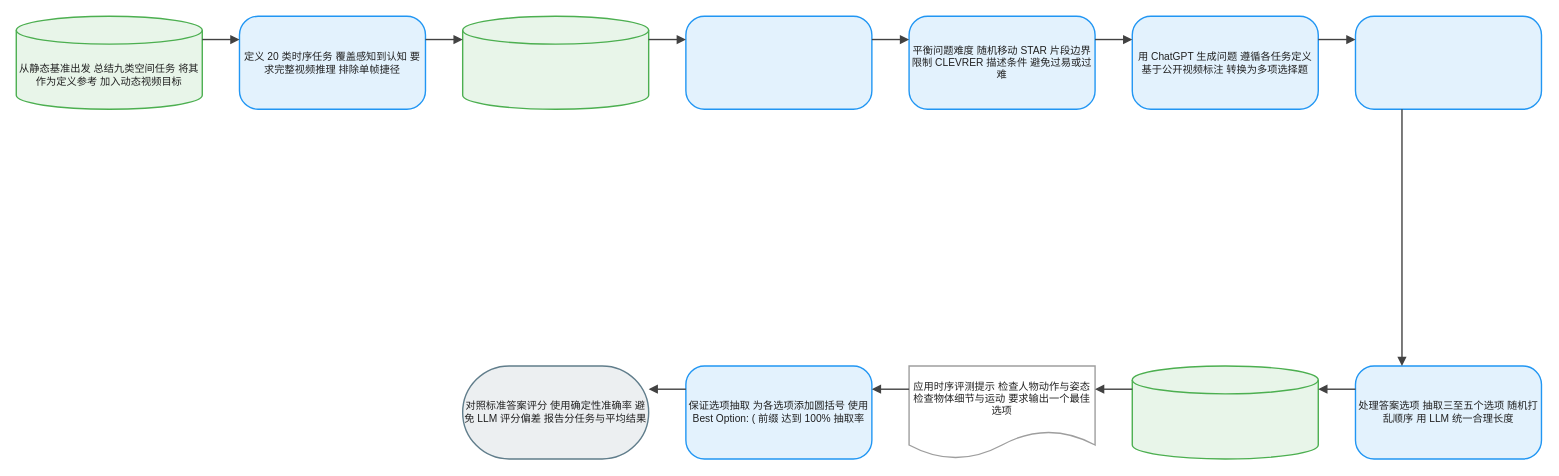
The diagram is 1559 pixels wide and 476 high, and some of its shapes have lost their labels. Here are the shapes that lost their labels. From the top down, the centre of each, then its label:
At (x=555, y=62): "收集公开视频数据 使用 11 个来源基准 覆盖第一与第三人称 覆盖室内与室外场景".
At (x=778, y=62): "筛选时序敏感视频 移除几乎无运动片段 移除上下文过长视频 主要保留 5–35 秒片段".
At (x=1448, y=62): "构造候选选项 优先使用标准标注模板 开放问答由 LLM 转换 加入正确答案与干扰项".
At (x=1225, y=412): "定稿 MVBench 每个任务 200 道选择题 20 个任务共 4,000 题 保留视频标准标注".
